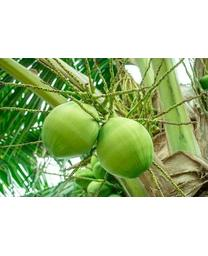coconut: (95, 116, 155, 178), (40, 99, 100, 160)
